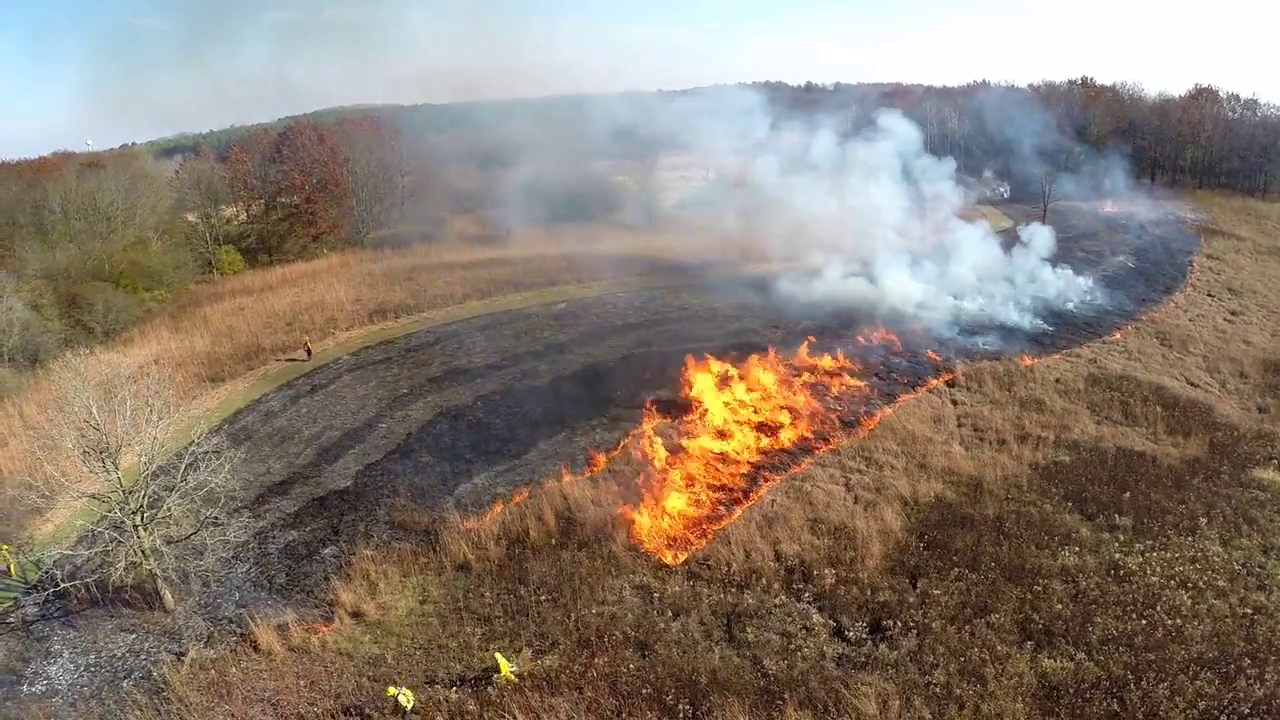forest_fire: (560, 337, 953, 565)
